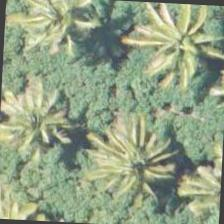Kelapa_Sawit: (88, 118, 183, 213), (132, 1, 223, 89), (0, 71, 82, 166), (13, 0, 107, 61)
